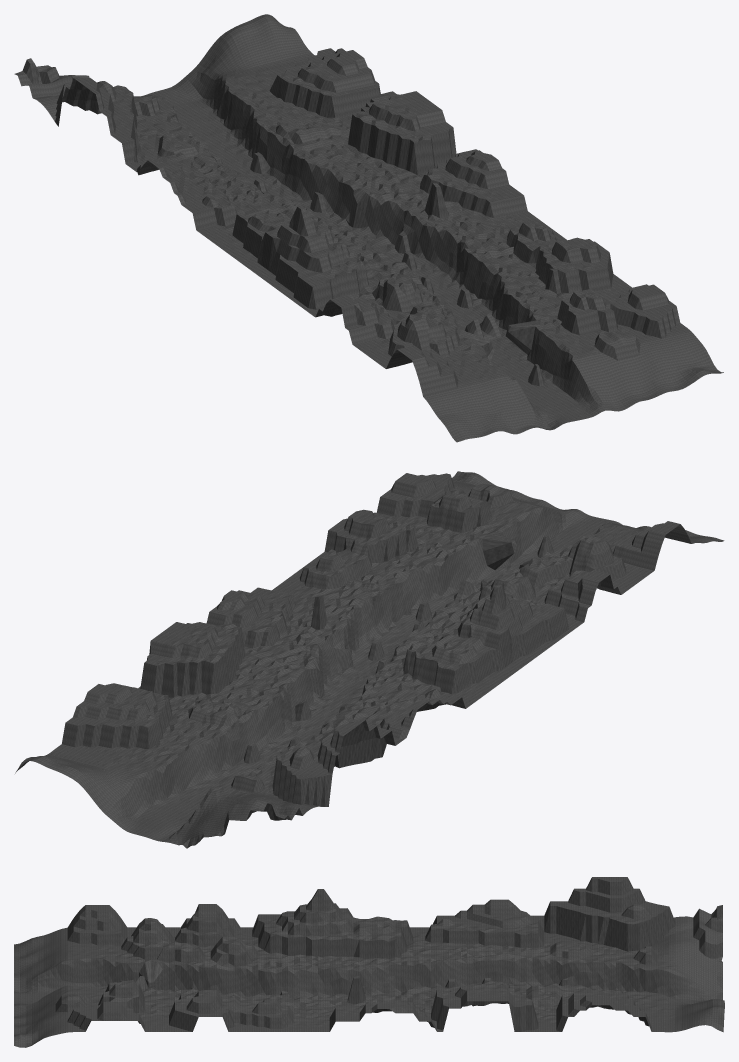
The model's file is Terrain_04_CANYON.obj.
3 renders of one model, top to bottom at view 1: azimuth 30°, elevation 25°; view 2: azimuth 150°, elevation 25°; view 3: azimuth 270°, elevation 25°, orthographic. The views are drawn at different scales.
Parts seen in each view (by area): view 1: Terrain_04_CANYON; view 2: Terrain_04_CANYON; view 3: Terrain_04_CANYON.
Boxes of the visible parts, box(x1,y1,x2,y2) form: Terrain_04_CANYON: box(14, 14, 723, 442); Terrain_04_CANYON: box(15, 471, 724, 848); Terrain_04_CANYON: box(14, 877, 724, 1047).
Bounding box in the file's own units: 1062 × 369 × 3008.
1 material, 1 textured.
